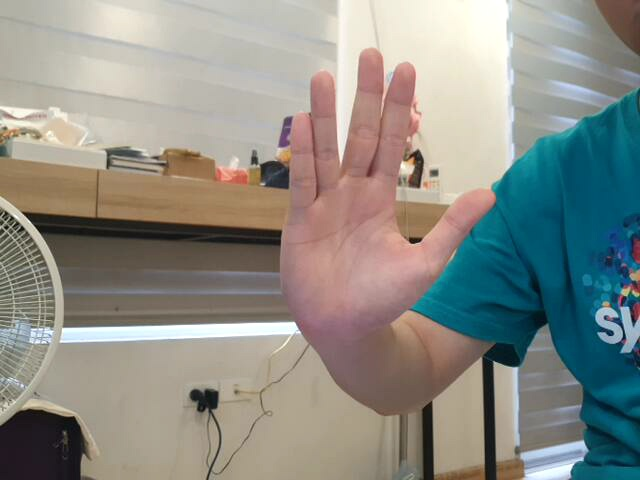LiveLong: (275, 44, 498, 348)
